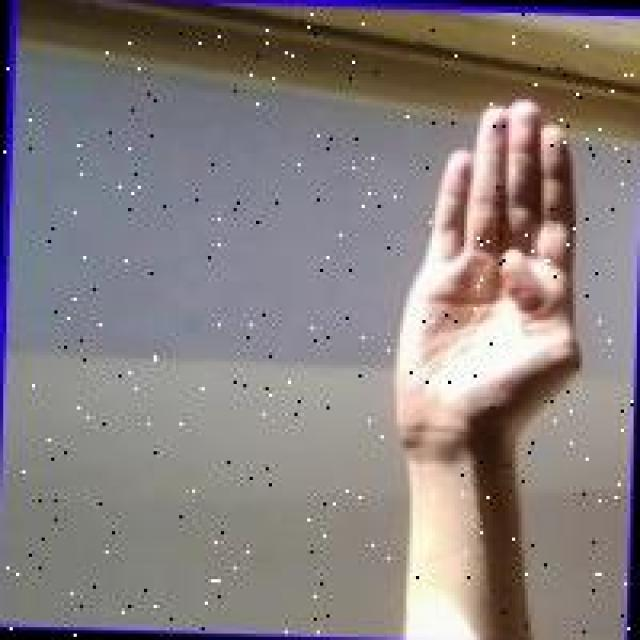B: (397, 88, 595, 507)
